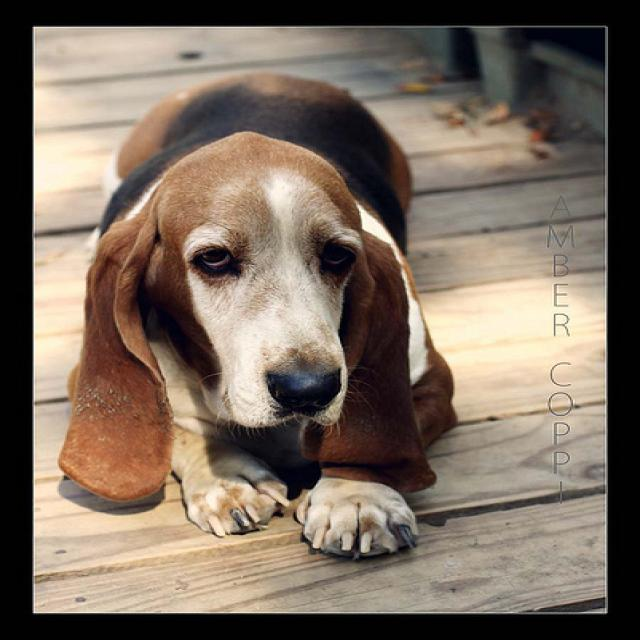dog-basset_hound: (45, 58, 472, 572)
